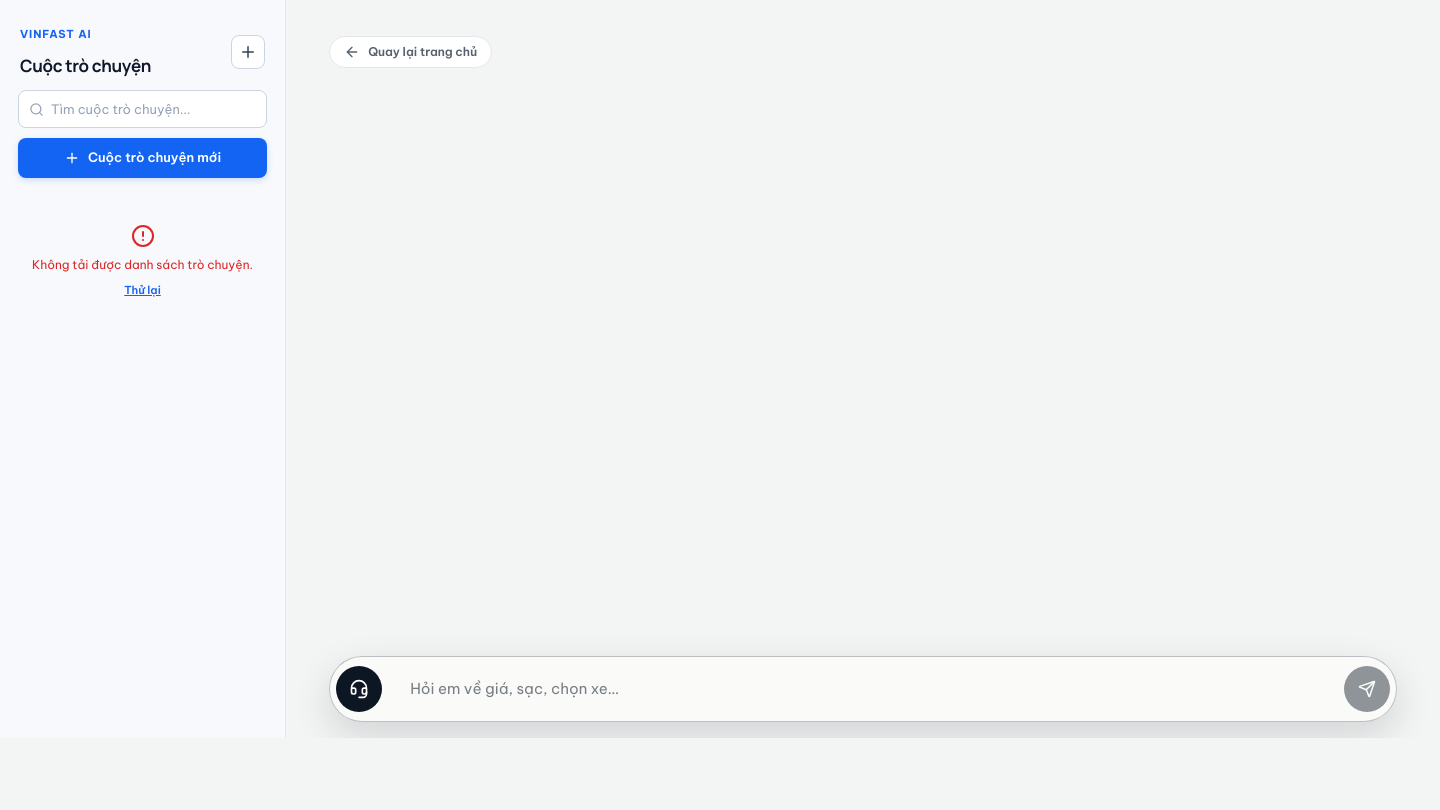
Test case: ConsultationFlow giu payload giau cua mot luot › luot khong co the thi khong ve gi them
Type "Cho tôi xem chi tiết VF 8" into the field named "Tin nhắn gửi trợ lý" at [873, 689], box [410,663,1336,715]
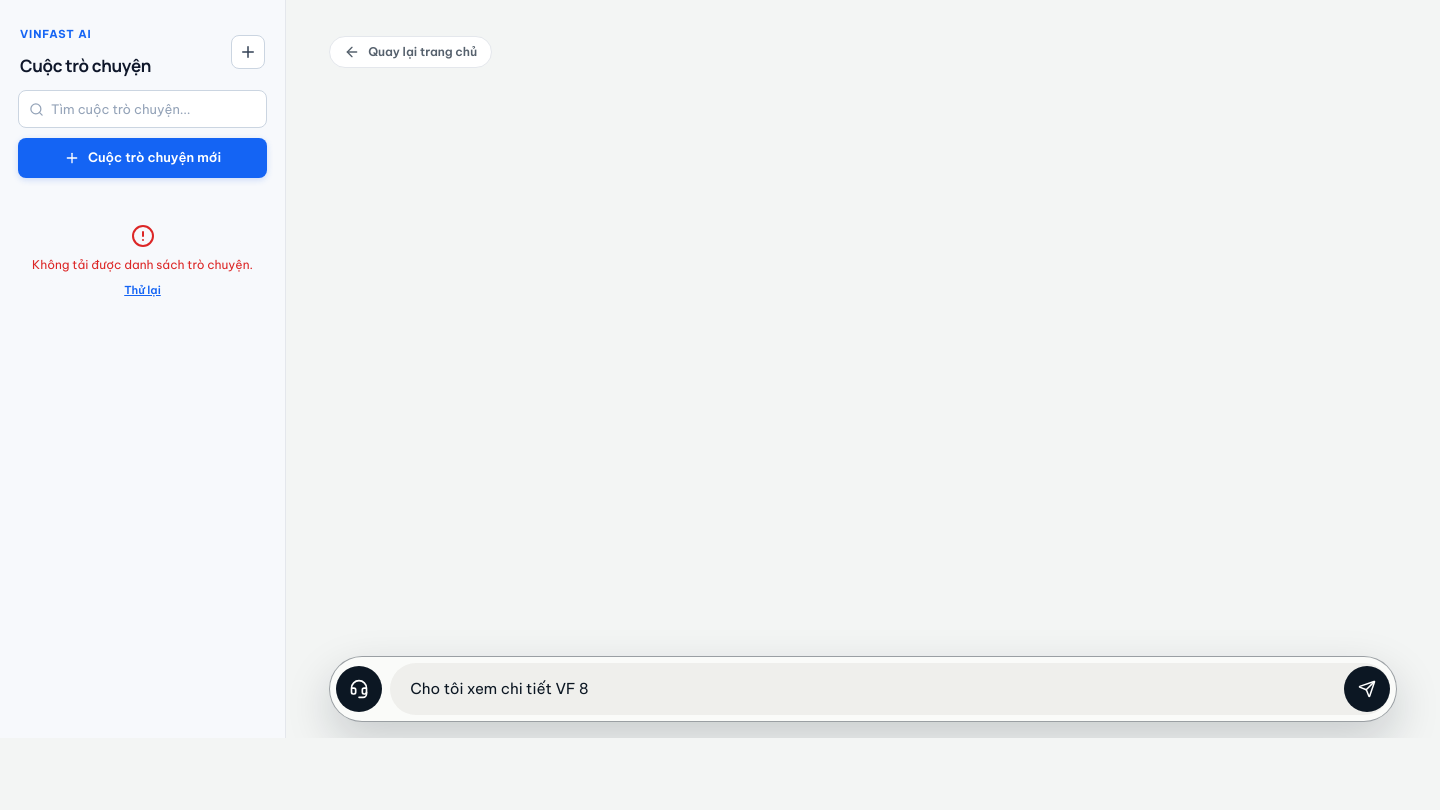
Click the button named "Gửi" at [1367, 689], box [1344,666,1390,712]
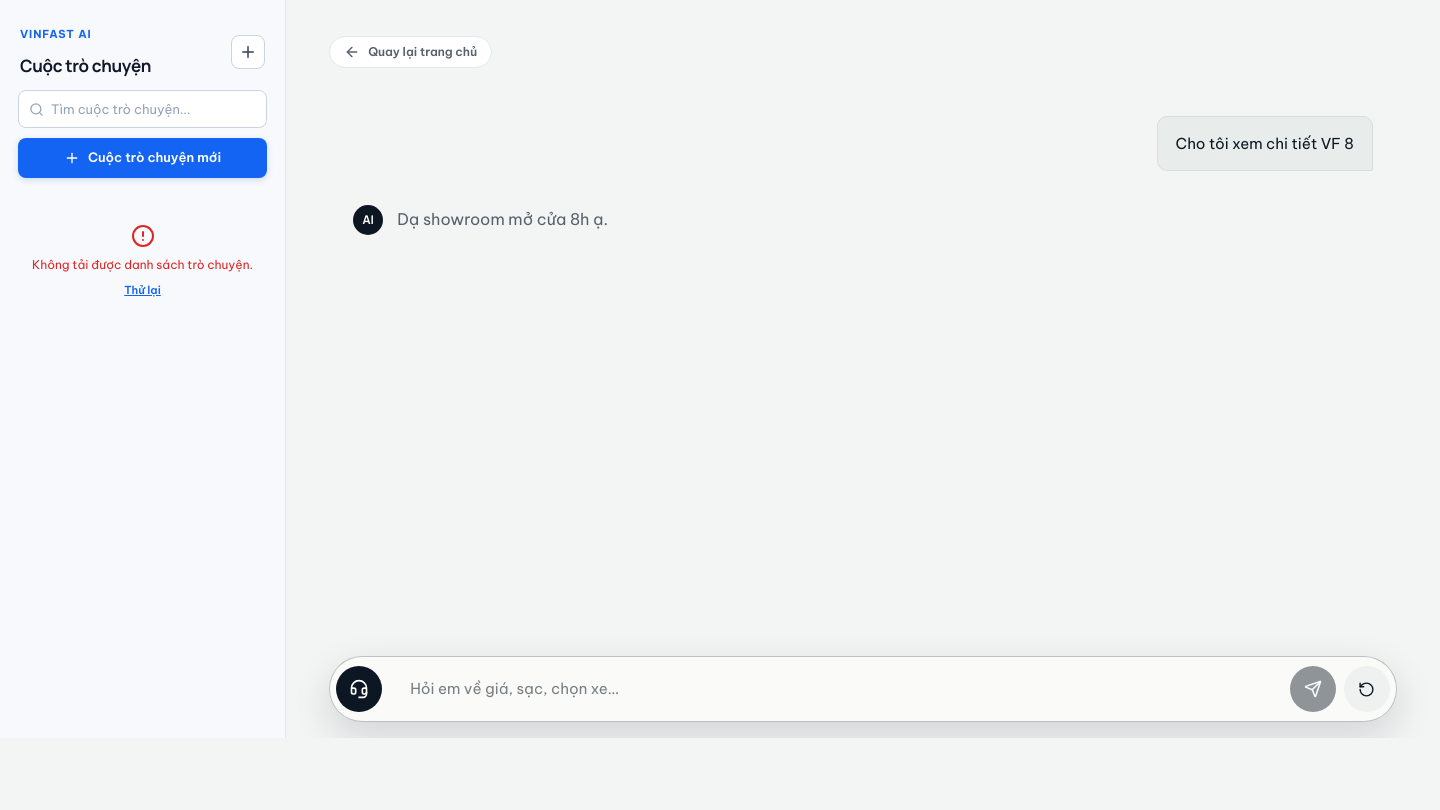
Check: the text "Dạ showroom mở cửa 8h ạ." is shown, box [397,209,608,229]
